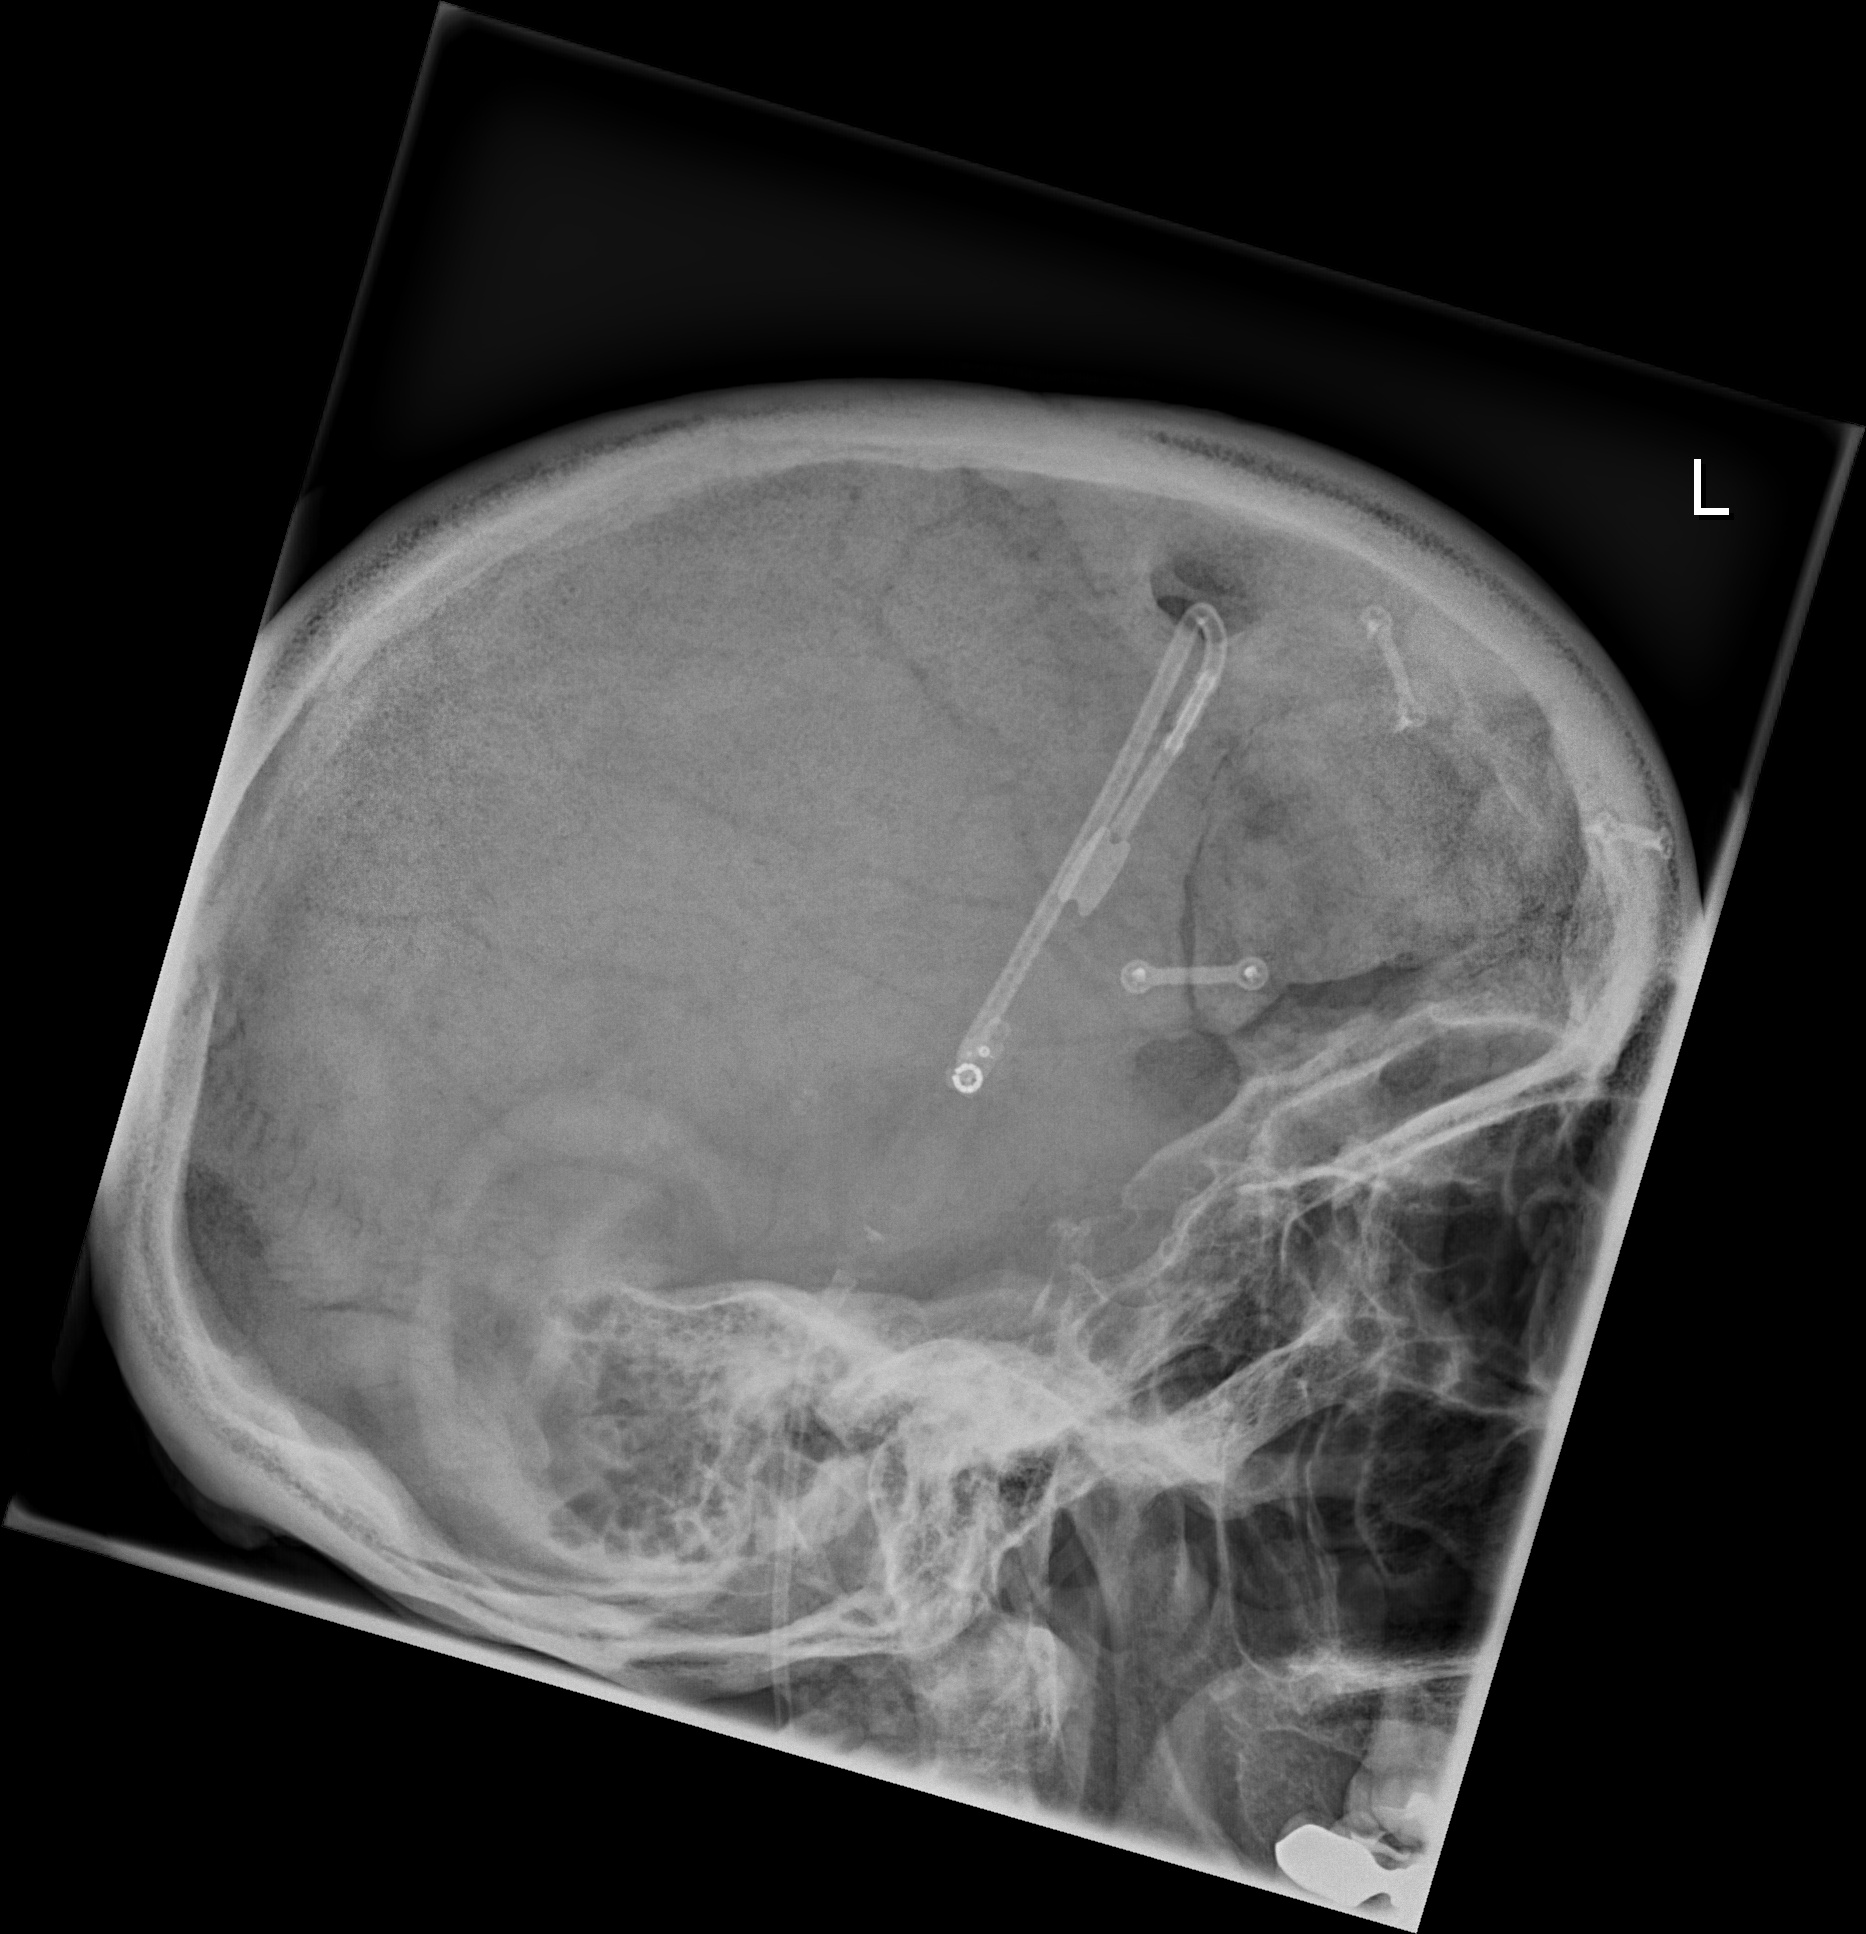Codman Hakim: (944, 1022, 999, 1122)
